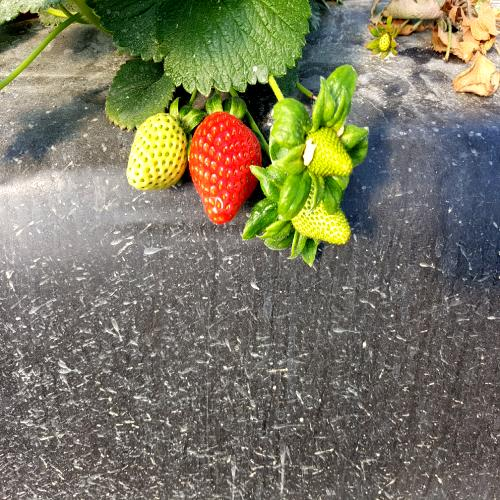ripe: (186, 109, 262, 228)
